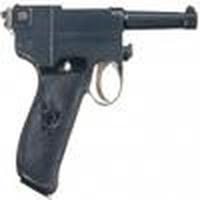gun: (1, 1, 200, 190)
